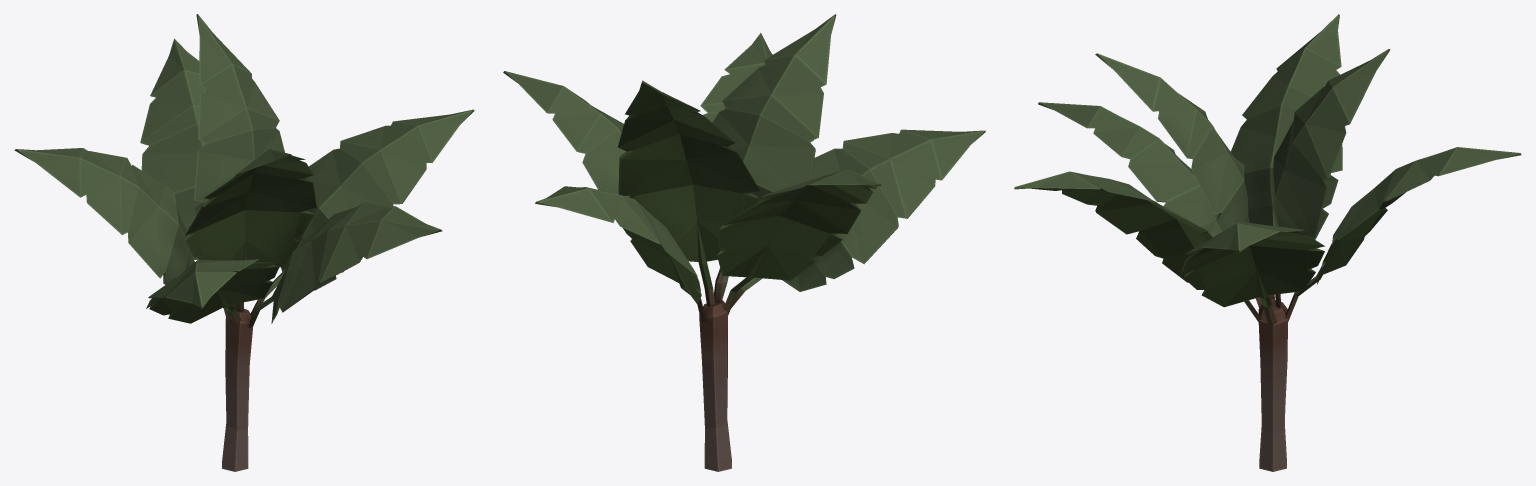
Rendered from FishtailPalmTree.gltf.
3 views of the same model, side by side, from view 1: azimuth 30°, elevation 25°; view 2: azimuth 150°, elevation 25°; view 3: azimuth 270°, elevation 25° (orthographic). The views are drawn at different scales.
Parts seen in each view (by area): view 1: node-0; view 2: node-0; view 3: node-0.
Part boxes in pixels (x1,y1,x2,y2): node-0: [14, 14, 474, 471]; node-0: [503, 14, 985, 471]; node-0: [1014, 14, 1521, 471].
Size of the model in its own units: 8.22 by 7.75 by 8.37.
1 material, 1 textured.
